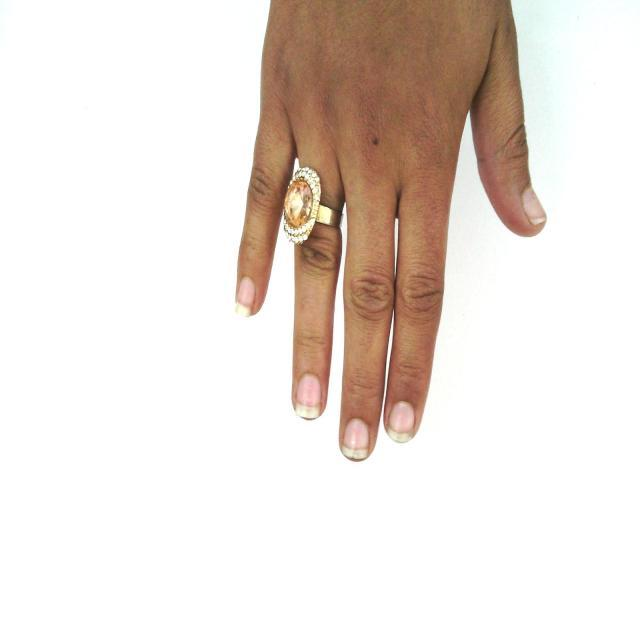Fingernail: (295, 375, 322, 419), (342, 418, 369, 459), (389, 402, 415, 442), (523, 188, 546, 224), (236, 277, 255, 317)
